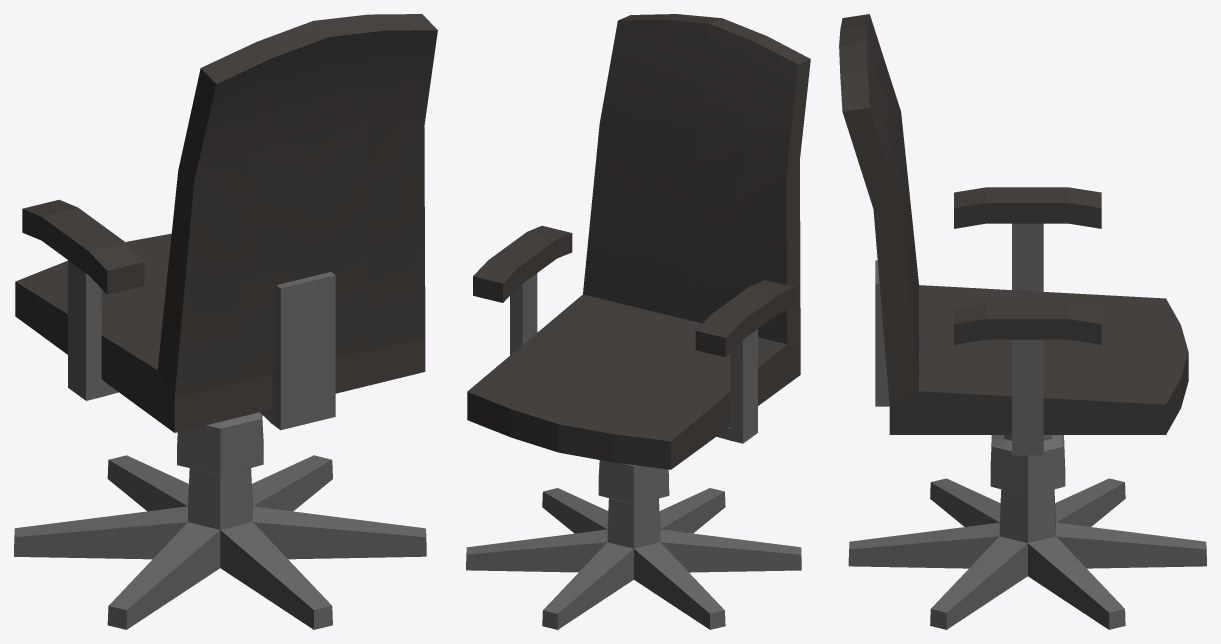
Rendered from Chair_3.fbx.
The picture shows the model from 3 angles, left to right: view 1: azimuth 30°, elevation 25°; view 2: azimuth 150°, elevation 25°; view 3: azimuth 270°, elevation 25°; orthographic projection. The views are drawn at different scales.
Parts seen in each view (by area): view 1: polySurface2337; view 2: polySurface2337; view 3: polySurface2337.
Boxes of the visible parts, left/top/right/bottom form: polySurface2337: left=14, top=14, right=437, bottom=629; polySurface2337: left=466, top=14, right=810, bottom=629; polySurface2337: left=839, top=14, right=1206, bottom=629.
Size of the model in its own units: 0.6361 by 1.14 by 0.732.
Materials: 1 (1 with a texture image).
